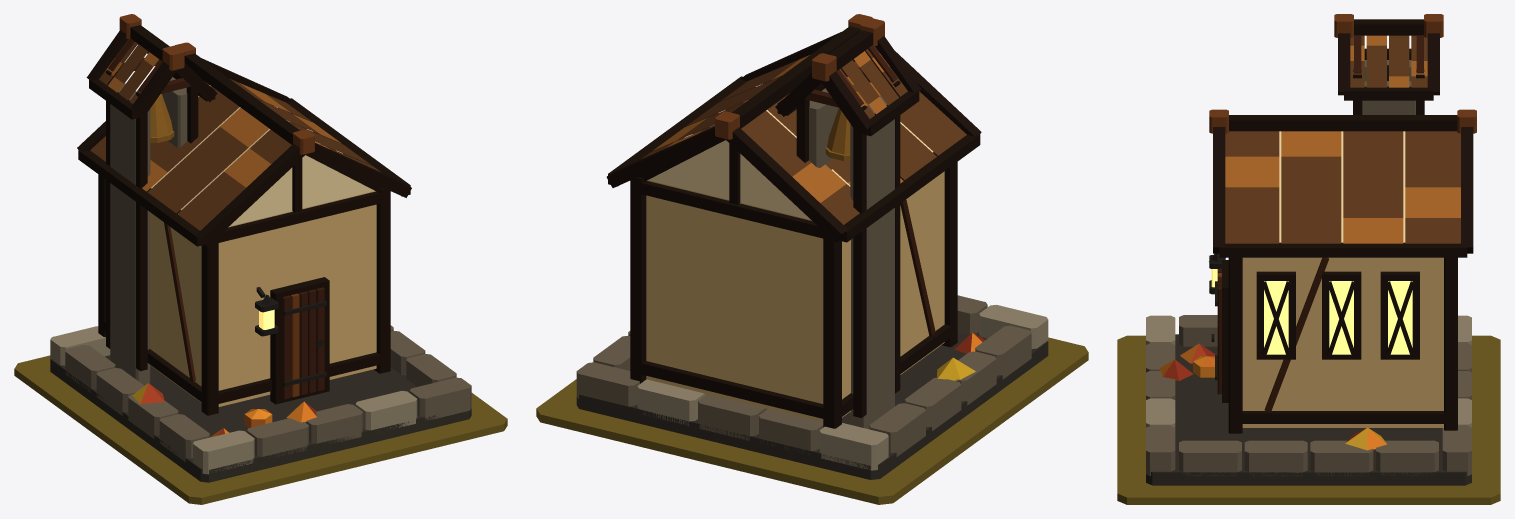
File: chapel_t3.glb
The picture shows the model from 3 angles, left to right: view 1: azimuth 30°, elevation 25°; view 2: azimuth 150°, elevation 25°; view 3: azimuth 270°, elevation 25°; orthographic projection. The views are drawn at different scales.
Parts seen in each view (by area): view 1: MMR | chapel | T03 Architecture.001, MMR | chapel | Tier 03 Ground.001, MMR | chapel | T03 Autumn Dressing.001; view 2: MMR | chapel | T03 Architecture.001, MMR | chapel | Tier 03 Ground.001, MMR | chapel | T03 Autumn Dressing.001; view 3: MMR | chapel | T03 Architecture.001, MMR | chapel | Tier 03 Ground.001, MMR | chapel | T03 Autumn Dressing.001.
Part boxes in pixels (<box>): MMR | chapel | T03 Architecture.001: <box>50,14,471,482</box>; MMR | chapel | Tier 03 Ground.001: <box>14,355,507,504</box>; MMR | chapel | T03 Autumn Dressing.001: <box>132,383,316,437</box>; MMR | chapel | T03 Architecture.001: <box>576,14,1048,479</box>; MMR | chapel | Tier 03 Ground.001: <box>536,337,1088,504</box>; MMR | chapel | T03 Autumn Dressing.001: <box>937,332,985,380</box>; MMR | chapel | T03 Architecture.001: <box>1146,14,1476,485</box>; MMR | chapel | Tier 03 Ground.001: <box>1117,335,1500,504</box>; MMR | chapel | T03 Autumn Dressing.001: <box>1159,343,1386,450</box>.
Bounding box in the file's own units: 2.35 × 2.5 × 2.35.
2 materials, 1 textured.
